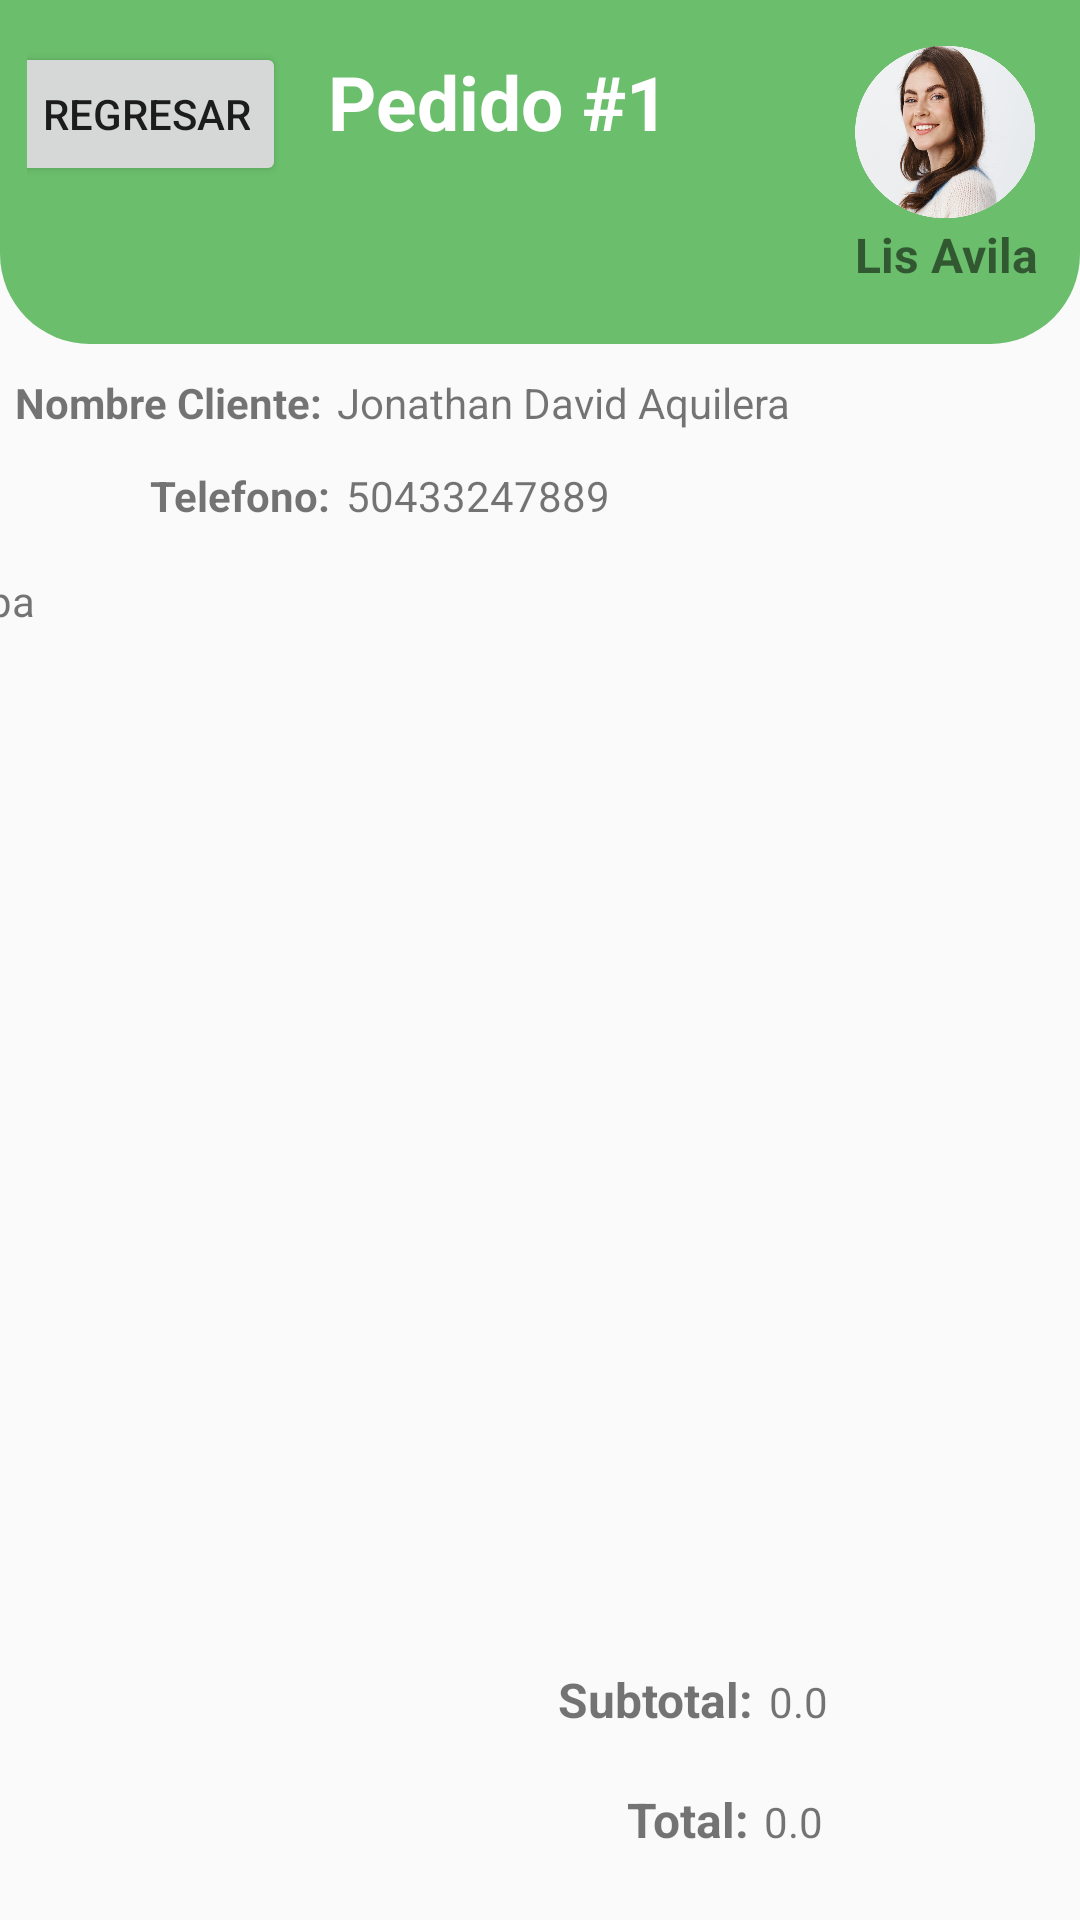

Icon click points for this 1080 x 1920 phone screenshot, format point (x, y):
profile: point (945, 132)
